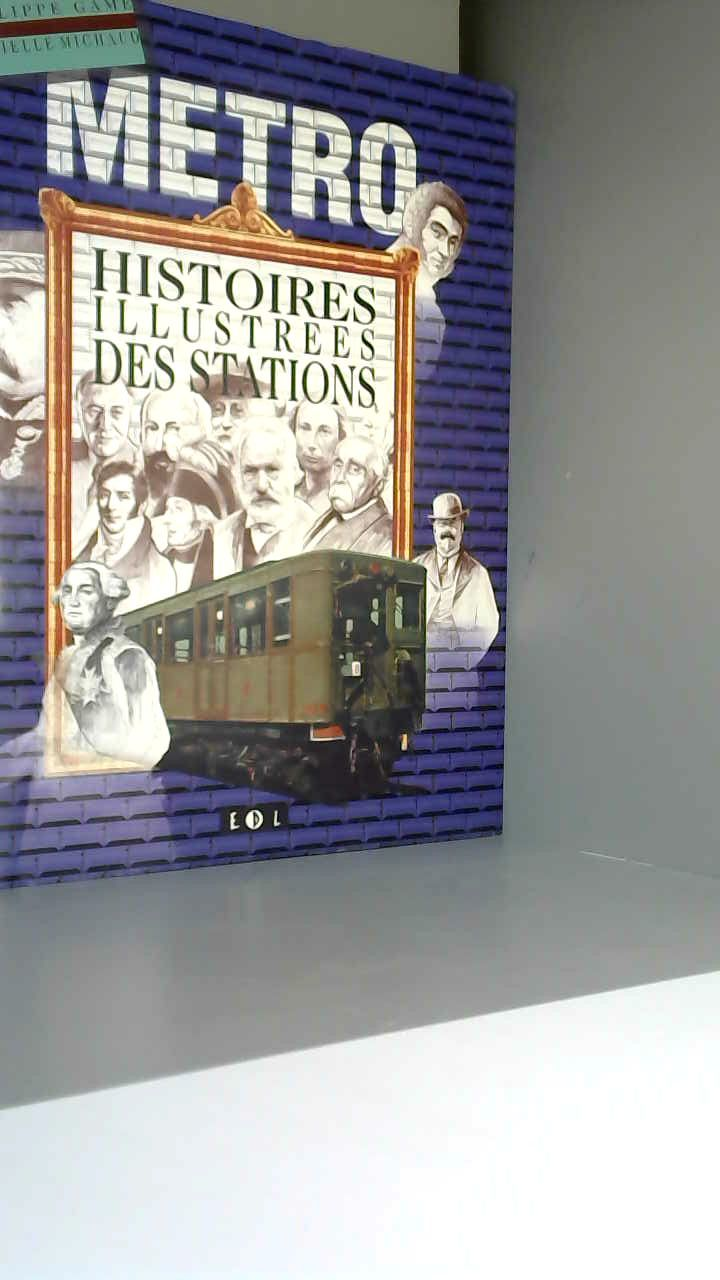book: (1, 0, 560, 912)
